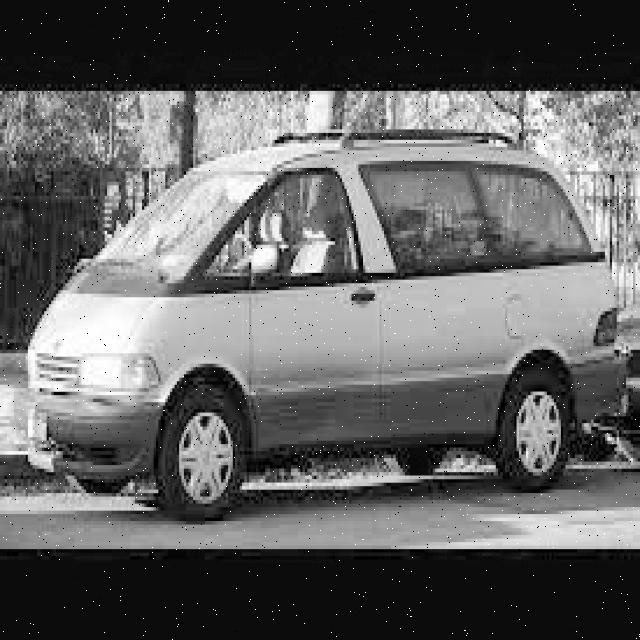Van: (14, 133, 619, 517)
